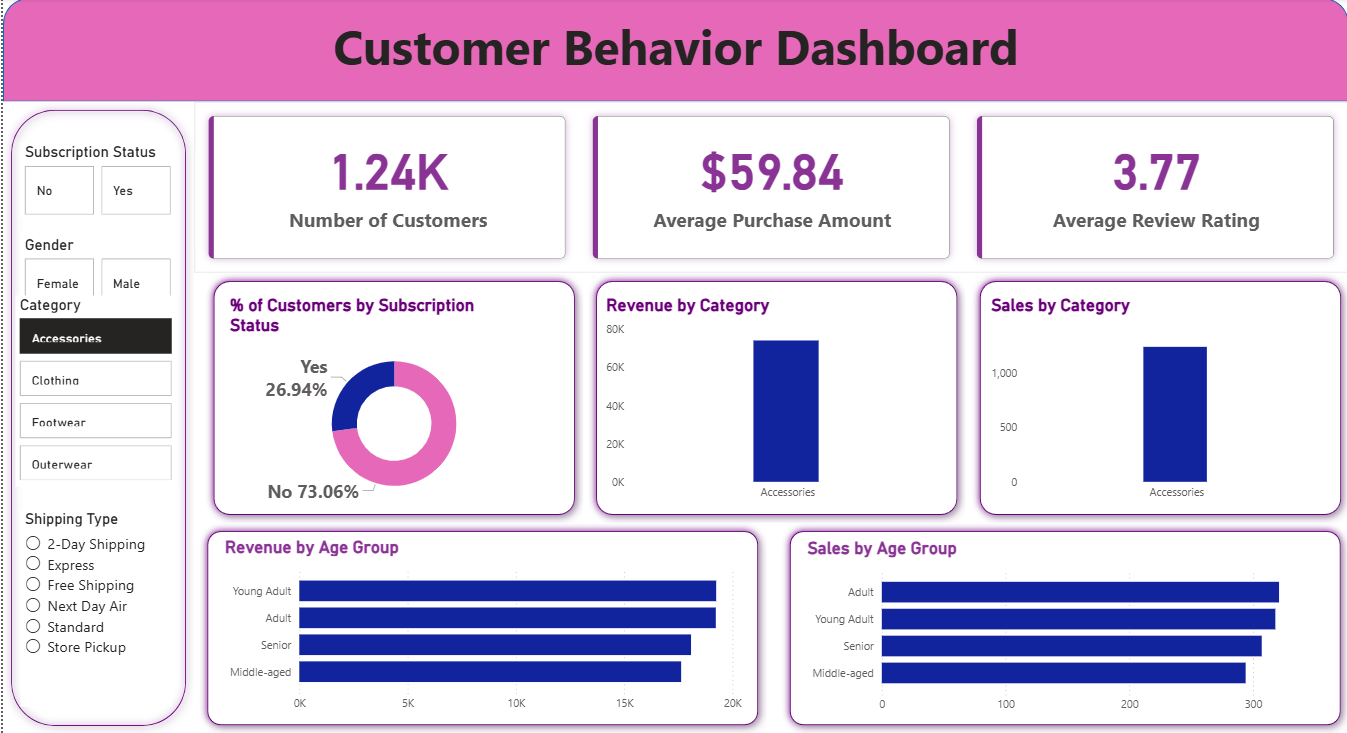

What the dashboard file says about the page in this screenshot:
{"tool":"powerbi","page":{"name":"Page 1","canvas":[1500,820],"ordinal":0},"visuals":[{"type":"cardVisual","fields":{"Data":["public customer.Number of Customers","public customer.Average Purchase Amount","public customer.Average Review Rating"]},"box":[212.9,115.3,1286.5,191.6],"z":2000},{"type":"shape","box":[218.3,585.6,631.7,234.2],"z":2500,"group":"g1"},{"type":"shape","box":[0,0,1499.4,115.3],"z":3000},{"type":"textbox","box":[0,12.4,1499.4,102.9],"z":4000},{"type":"shape","box":[225.4,307,420.5,278.6],"z":5000},{"type":"donutChart","title":"% of Customers by Subscription Status","fields":{"Category":["public customer.subscription_status"],"Y":["CountNonNull(public customer.customer_id)"]},"box":[248.4,331.8,376.2,237.8],"z":6000},{"type":"shape","box":[1078.9,307,420.5,278.6],"z":7000},{"type":"shape","box":[652.1,307,420.5,278.6],"z":8000},{"type":"clusteredColumnChart","title":"Revenue by Category","fields":{"Y":["Sum(public customer.purchase_amount)"],"Category":["public customer.category"]},"box":[667.2,331.8,385.1,237.8],"z":9000},{"type":"clusteredColumnChart","title":"Sales by Category","fields":{"Y":["CountNonNull(public customer.customer_id)"],"Category":["public customer.category"]},"box":[1096.6,331.8,385.1,237.8],"z":10000},{"type":"shape","box":[0,115.3,212.9,704.5],"z":11000},{"type":"advancedSlicerVisual","fields":{"Values":["public customer.subscription_status"]},"box":[19.5,161.5,173.9,85.2],"z":12000},{"type":"advancedSlicerVisual","fields":{"Values":["public customer.gender"]},"box":[19.5,264.4,173.9,85.2],"z":13000},{"type":"advancedSlicerVisual","fields":{"Values":["public customer.category"]},"box":[13.9,331.5,179.7,213.1],"z":14000},{"type":"listSlicer","fields":{"Values":["public customer.shipping_type"]},"box":[19.5,569.6,168.6,220],"z":15000},{"type":"shape","box":[867.7,585.6,631.7,234.2],"z":16000},{"type":"clusteredBarChart","title":"Sales by Age Group","fields":{"Y":["CountNonNull(public customer.customer_id)"],"Category":["public customer.age_group"]},"box":[890.8,601.5,585.6,204.1],"z":17000},{"type":"clusteredBarChart","title":"Revenue by Age Group","fields":{"Y":["Sum(public customer.purchase_amount)"],"Category":["public customer.age_group"]},"box":[241.4,601.6,585.6,204.1],"z":17500,"group":"g1"},{"type":"group","id":"g1","title":"Group 1","box":[218.3,585.6,631.7,234.2],"z":17501}]}

Visuals, with their boxes in screenshot pixels (x1, y1, x2, y2), scaled from the page's 1500x820 canvas onto the 1347x733 screenshot:
cardVisual - public customer.Number of Customers x public customer.Average Purchase Amount: x1=191, y1=103, x2=1346, y2=274
shape: x1=196, y1=523, x2=763, y2=732
shape: x1=0, y1=0, x2=1346, y2=103
textbox: x1=0, y1=11, x2=1346, y2=103
shape: x1=202, y1=274, x2=580, y2=523
"% of Customers by Subscription Status" donutChart: x1=223, y1=297, x2=561, y2=509
shape: x1=969, y1=274, x2=1346, y2=523
shape: x1=586, y1=274, x2=963, y2=523
"Revenue by Category" clusteredColumnChart: x1=599, y1=297, x2=945, y2=509
"Sales by Category" clusteredColumnChart: x1=985, y1=297, x2=1331, y2=509
shape: x1=0, y1=103, x2=191, y2=732
advancedSlicerVisual - public customer.subscription_status: x1=18, y1=144, x2=174, y2=221
advancedSlicerVisual - public customer.gender: x1=18, y1=236, x2=174, y2=313
advancedSlicerVisual - public customer.category: x1=12, y1=296, x2=174, y2=487
listSlicer - public customer.shipping_type: x1=18, y1=509, x2=169, y2=706
shape: x1=779, y1=523, x2=1346, y2=732
"Sales by Age Group" clusteredBarChart: x1=800, y1=538, x2=1326, y2=720
"Revenue by Age Group" clusteredBarChart: x1=217, y1=538, x2=743, y2=720
"Group 1" group: x1=196, y1=523, x2=763, y2=732
